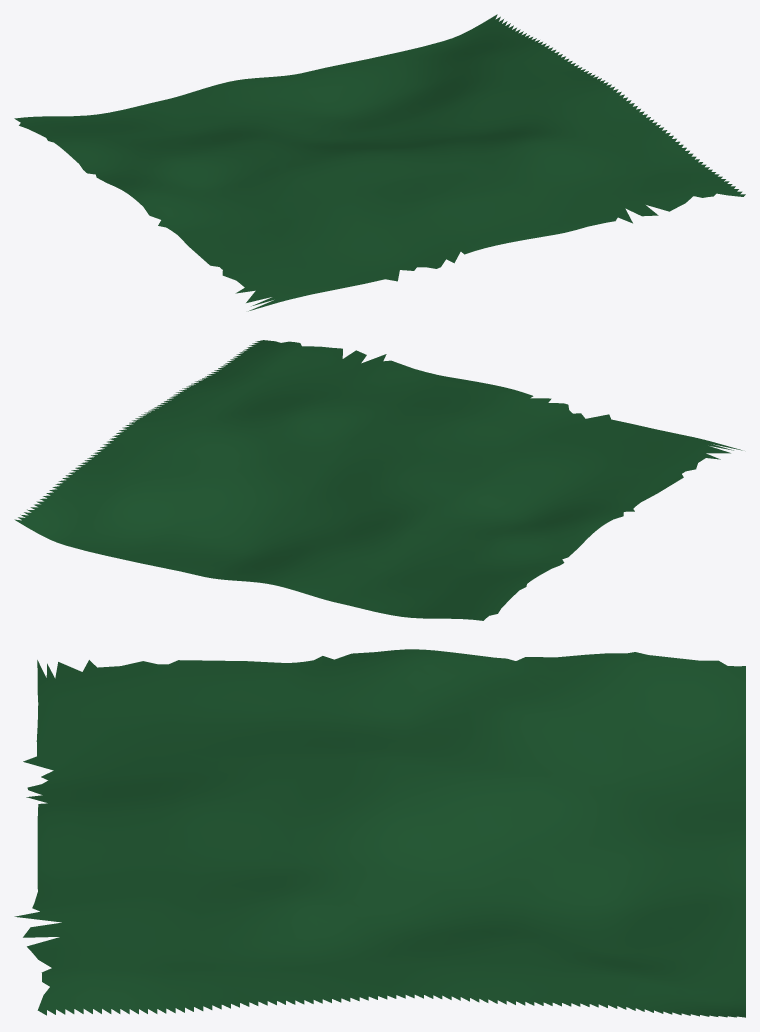
File: payo_land_xm4_ym4.glb
3 renders of one model, top to bottom at view 1: azimuth 30°, elevation 25°; view 2: azimuth 150°, elevation 25°; view 3: azimuth 270°, elevation 25°, orthographic. The views are drawn at different scales.
Visible parts, largest first — view 1: payo_land_xm4_ym4; view 2: payo_land_xm4_ym4; view 3: payo_land_xm4_ym4.
Boxes of the visible parts, x1,y1,x2,y2 form: payo_land_xm4_ym4: [14, 14, 745, 311]; payo_land_xm4_ym4: [14, 340, 742, 620]; payo_land_xm4_ym4: [14, 649, 745, 1017].
Size of the model in its own units: 267 by 22.64 by 239.
